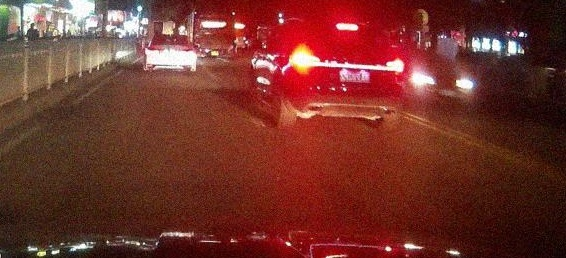L_light: (288, 44, 326, 74)
R_light: (377, 56, 405, 72)
T_light: (334, 22, 358, 31)
night-left: (278, 20, 406, 128)
